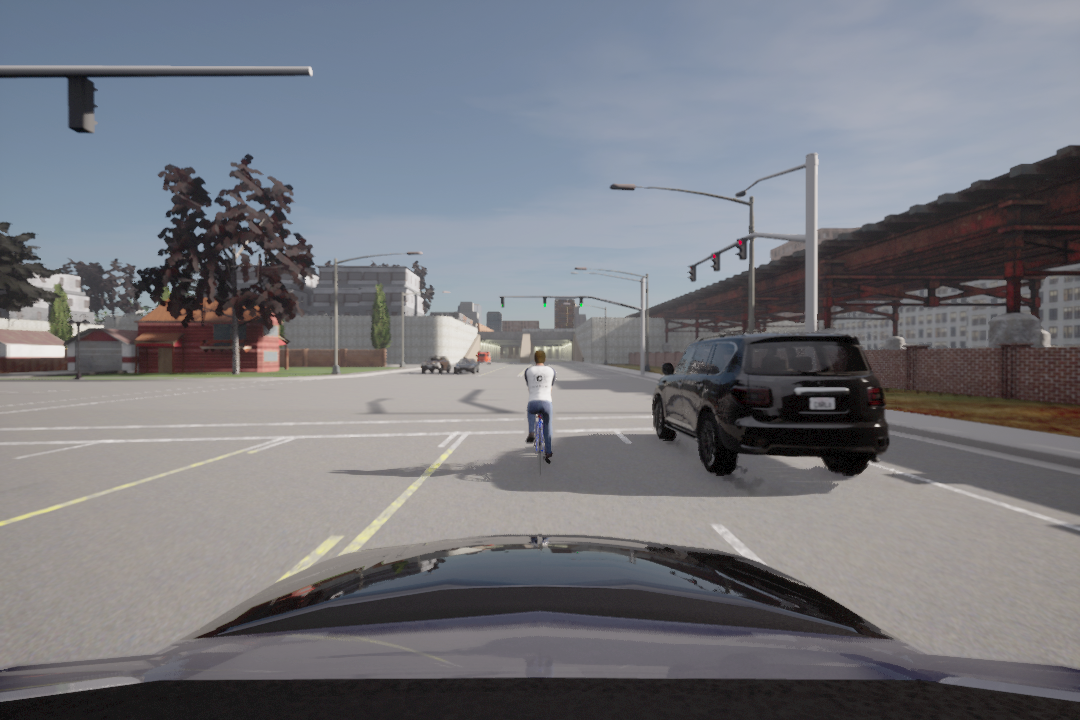TrafficLight: (731, 237, 746, 261), (709, 250, 724, 273), (686, 263, 697, 284), (497, 295, 508, 310), (577, 296, 585, 308), (541, 296, 548, 309)
